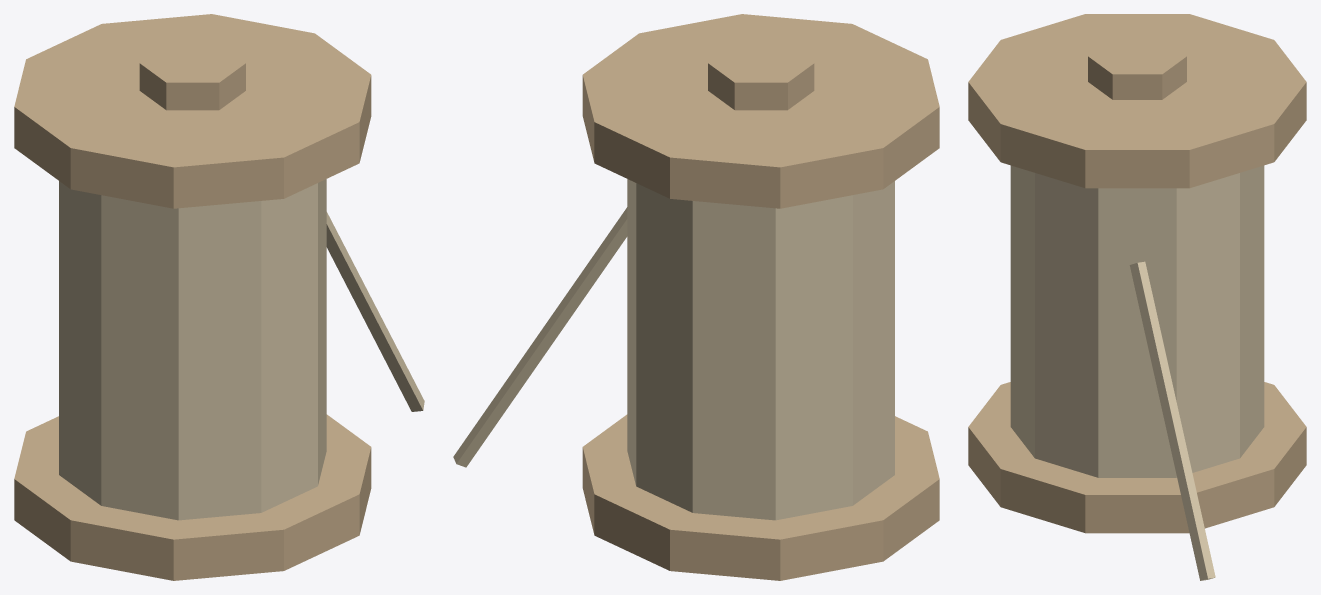
The model's file is prop-twine-bobbin-rm1.fbx.
3 views of the same model, side by side, from view 1: azimuth 30°, elevation 25°; view 2: azimuth 150°, elevation 25°; view 3: azimuth 270°, elevation 25° (orthographic). The views are drawn at different scales.
Visible parts, largest first — view 1: prop-twine-bobbin-rm1; view 2: prop-twine-bobbin-rm1; view 3: prop-twine-bobbin-rm1.
Part boxes in pixels (left/top/right/bottom): prop-twine-bobbin-rm1: left=14, top=14, right=424, bottom=580; prop-twine-bobbin-rm1: left=453, top=14, right=939, bottom=580; prop-twine-bobbin-rm1: left=968, top=14, right=1306, bottom=580.
Bounding box in the file's own units: 31.91 × 34 × 24.
